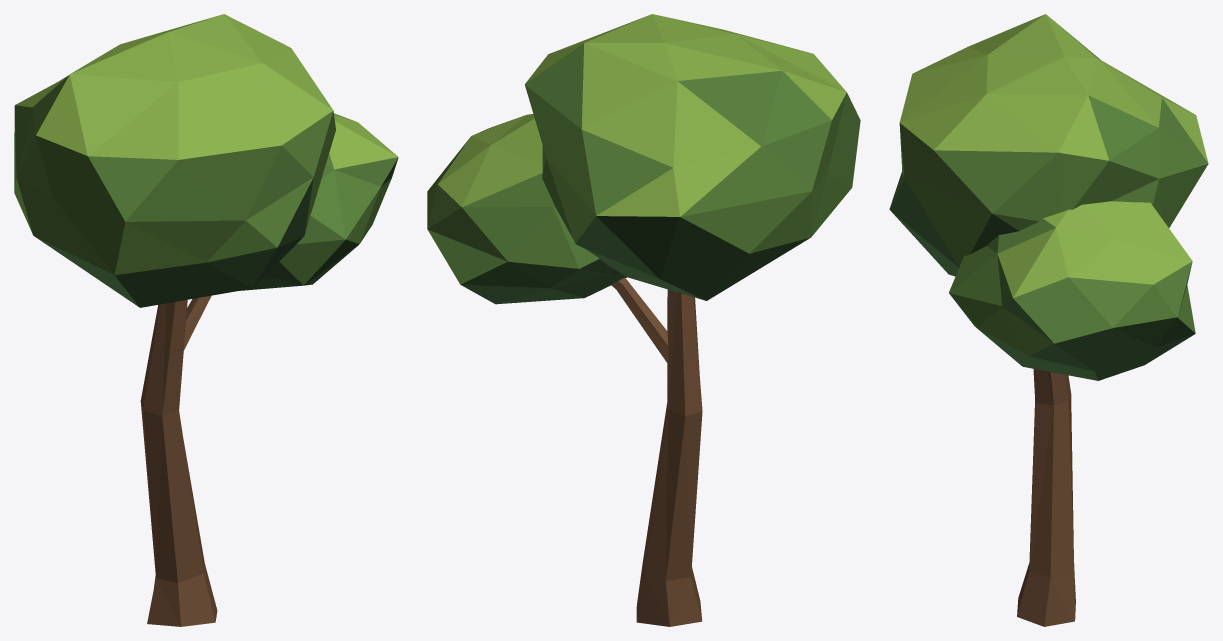
File: SM_Tree_Broad_B.fbx
3 views of the same model, side by side, from view 1: azimuth 30°, elevation 25°; view 2: azimuth 150°, elevation 25°; view 3: azimuth 270°, elevation 25° (orthographic). The views are drawn at different scales.
Parts seen in each view (by area): view 1: SM_Tree_Broad_B; view 2: SM_Tree_Broad_B; view 3: SM_Tree_Broad_B.
Part boxes in pixels (x1,y1,x2,y2): SM_Tree_Broad_B: [14, 14, 398, 626]; SM_Tree_Broad_B: [427, 14, 860, 626]; SM_Tree_Broad_B: [889, 14, 1208, 626].
Bounding box in the file's own units: 3.1 × 4.67 × 2.44.
